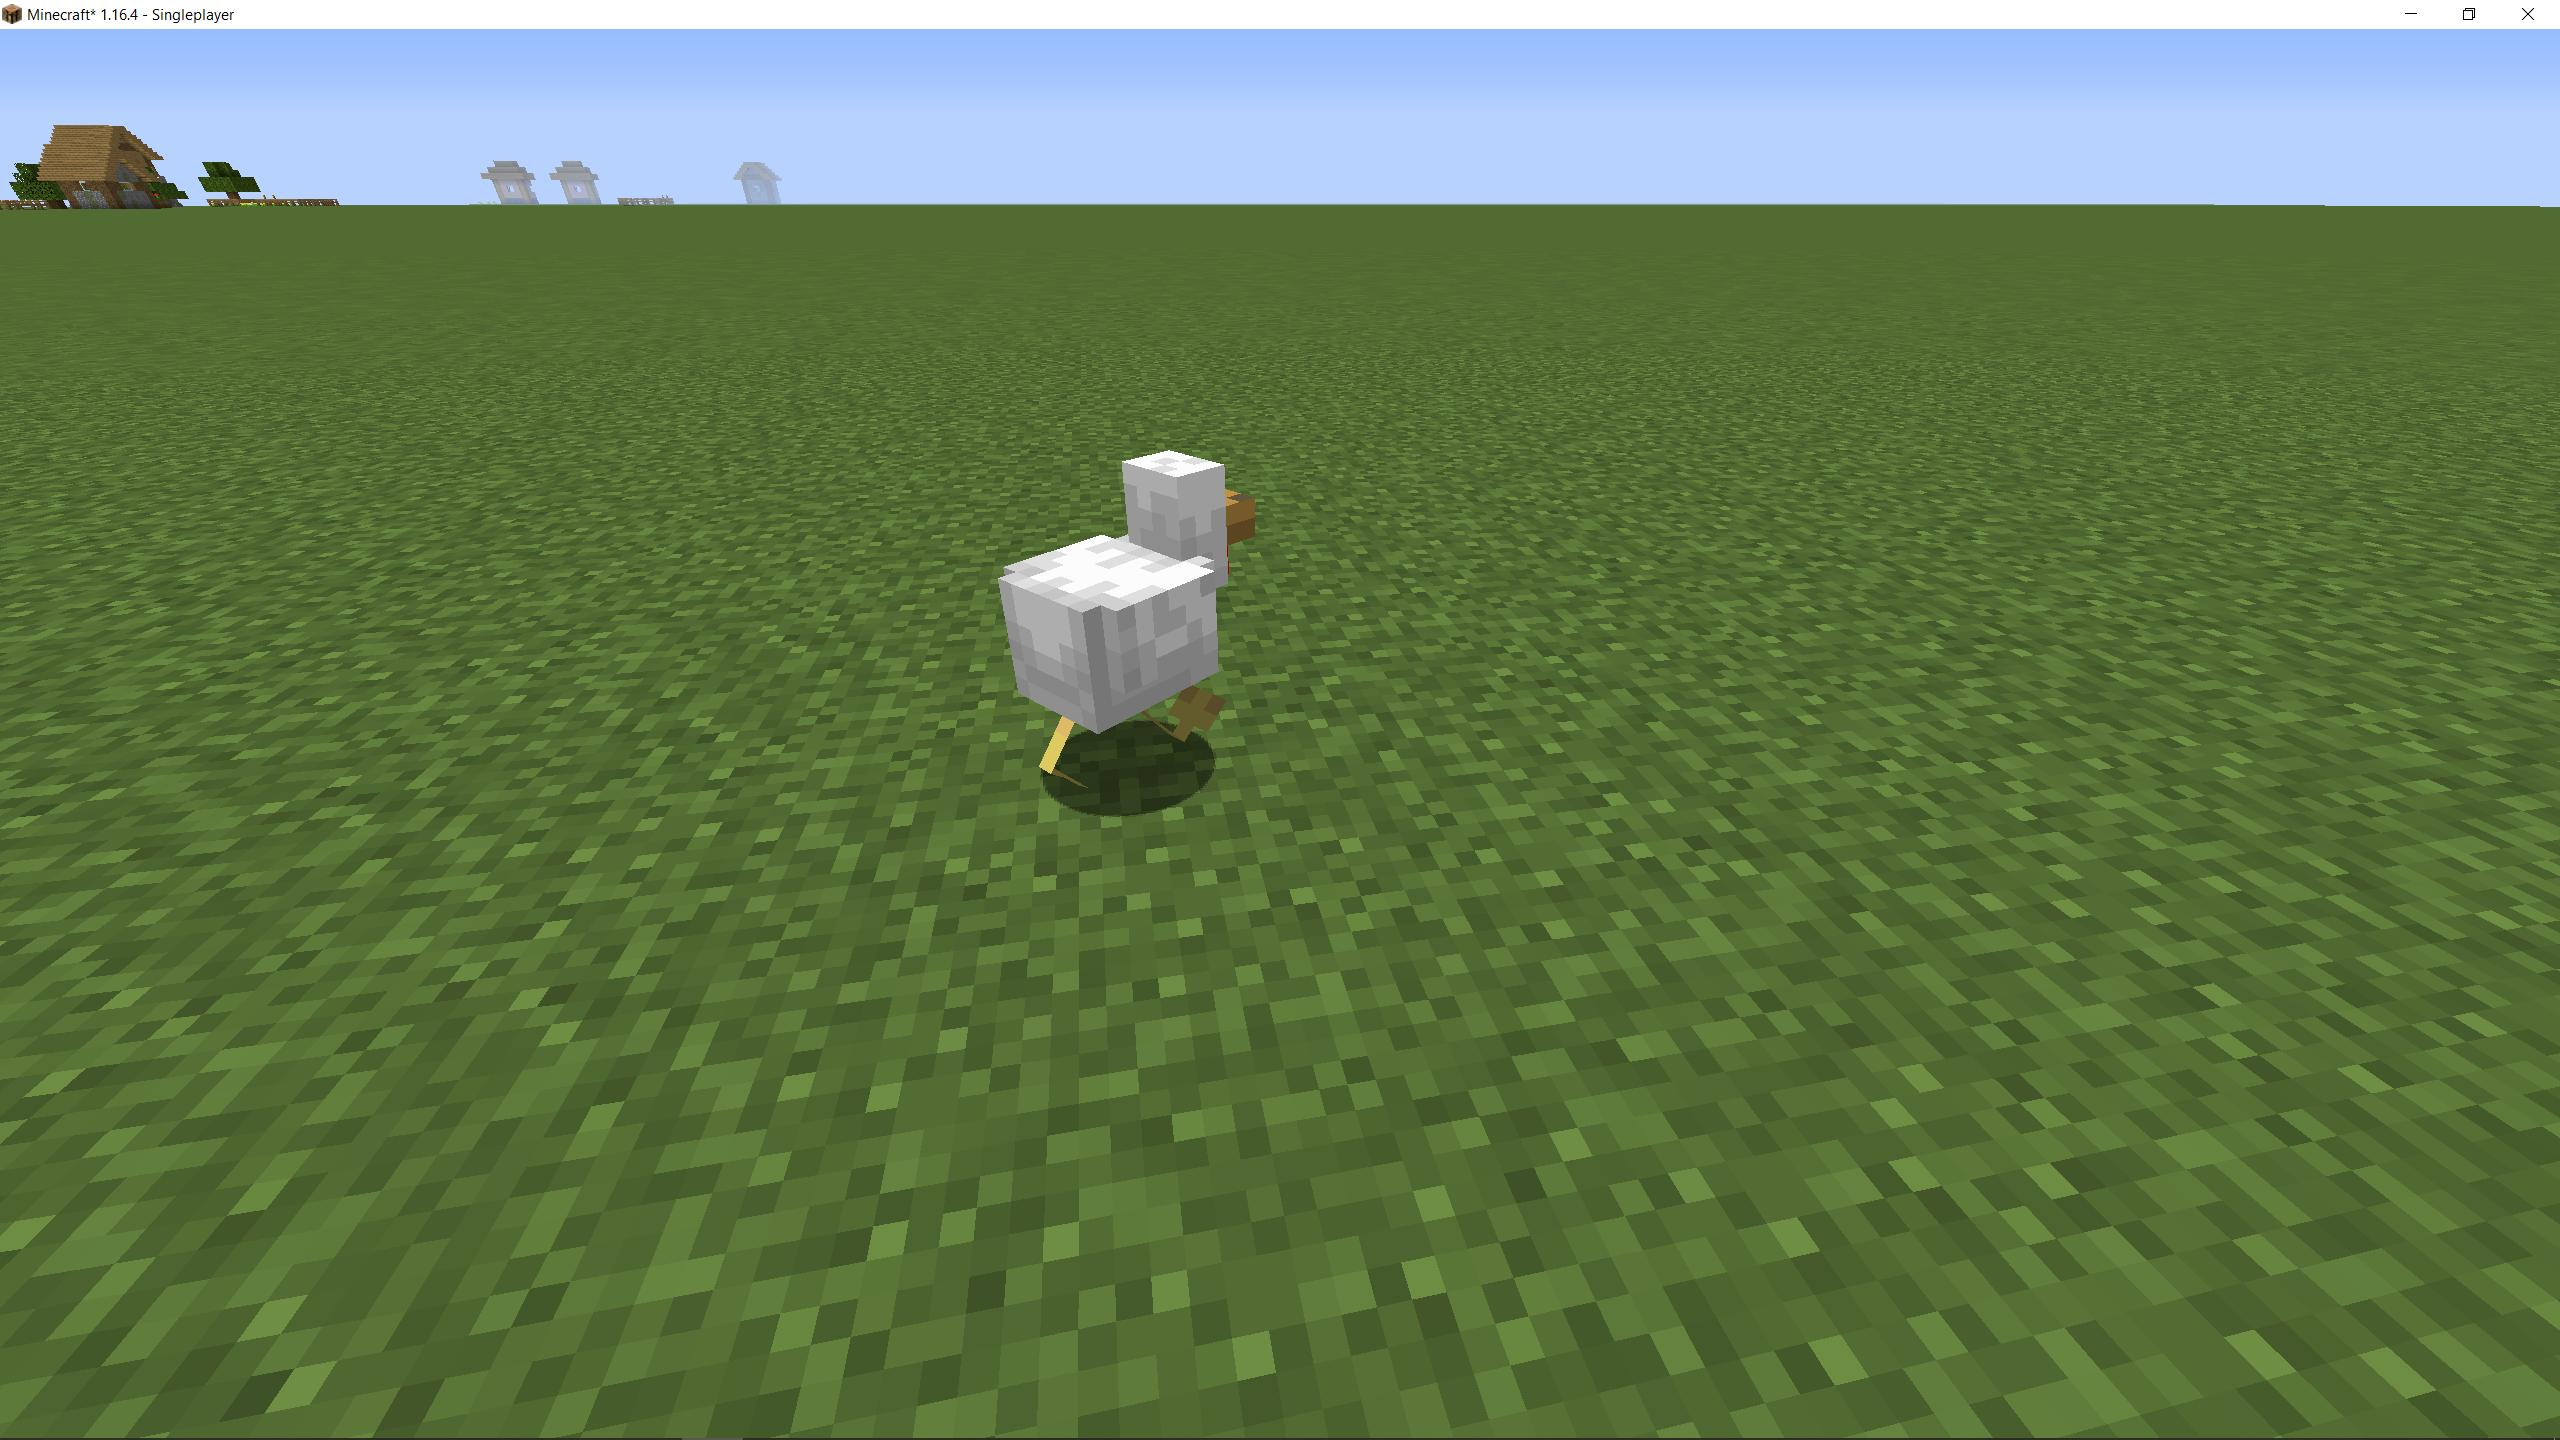chicken: (990, 434, 1268, 788)
